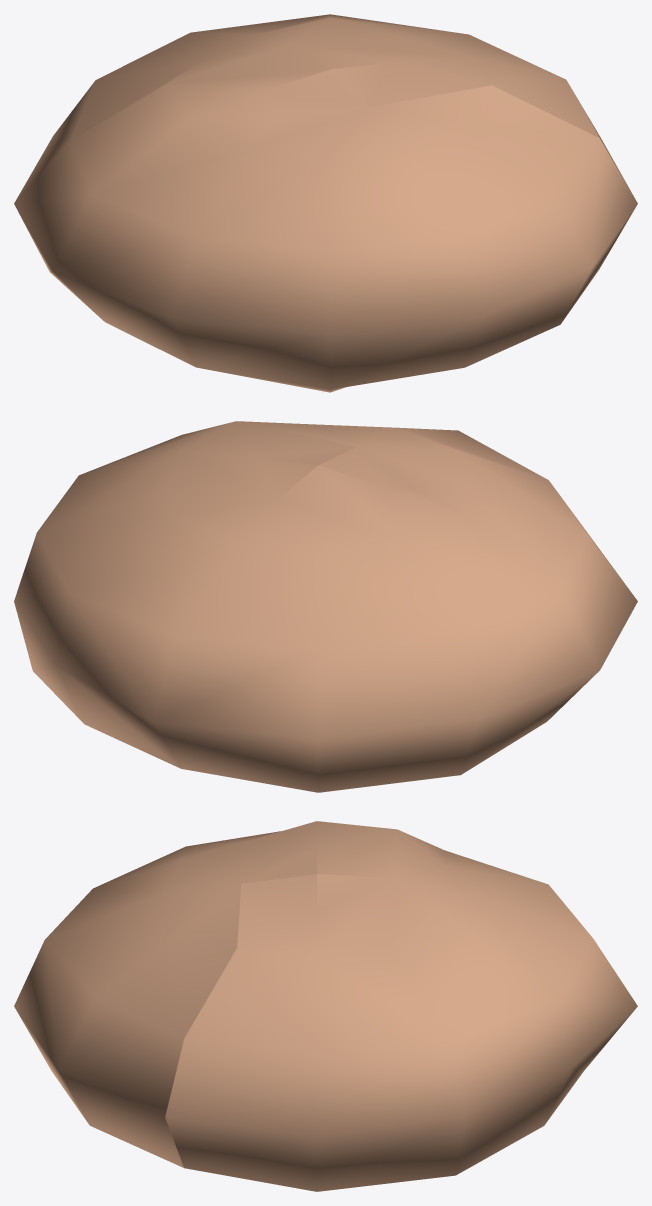
The model's file is rock_009.fbx.
The picture shows the model from 3 angles, top to bottom: view 1: azimuth 30°, elevation 25°; view 2: azimuth 150°, elevation 25°; view 3: azimuth 270°, elevation 25°; orthographic projection. The views are drawn at different scales.
Parts seen in each view (by area): view 1: Rock; view 2: Rock; view 3: Rock.
Boxes of the visible parts, <box> form: Rock: <box>14,14,637,392</box>; Rock: <box>14,421,637,792</box>; Rock: <box>14,821,637,1191</box>.
Size of the model in its own units: 1.36 by 0.635 by 1.36.
